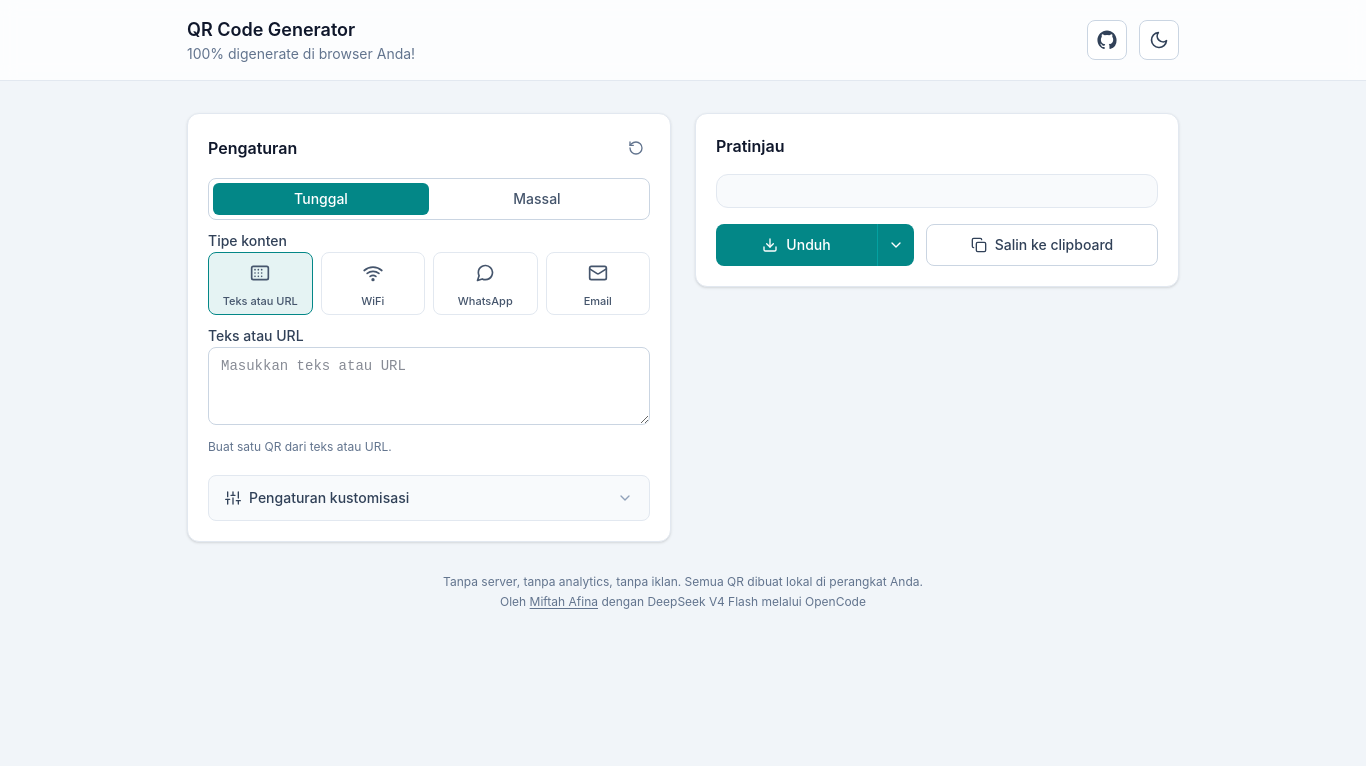
Test case: App › menampilkan form dinamis sesuai tipe konten
Click the button "WhatsApp": point(485, 283) [433,252,538,314]
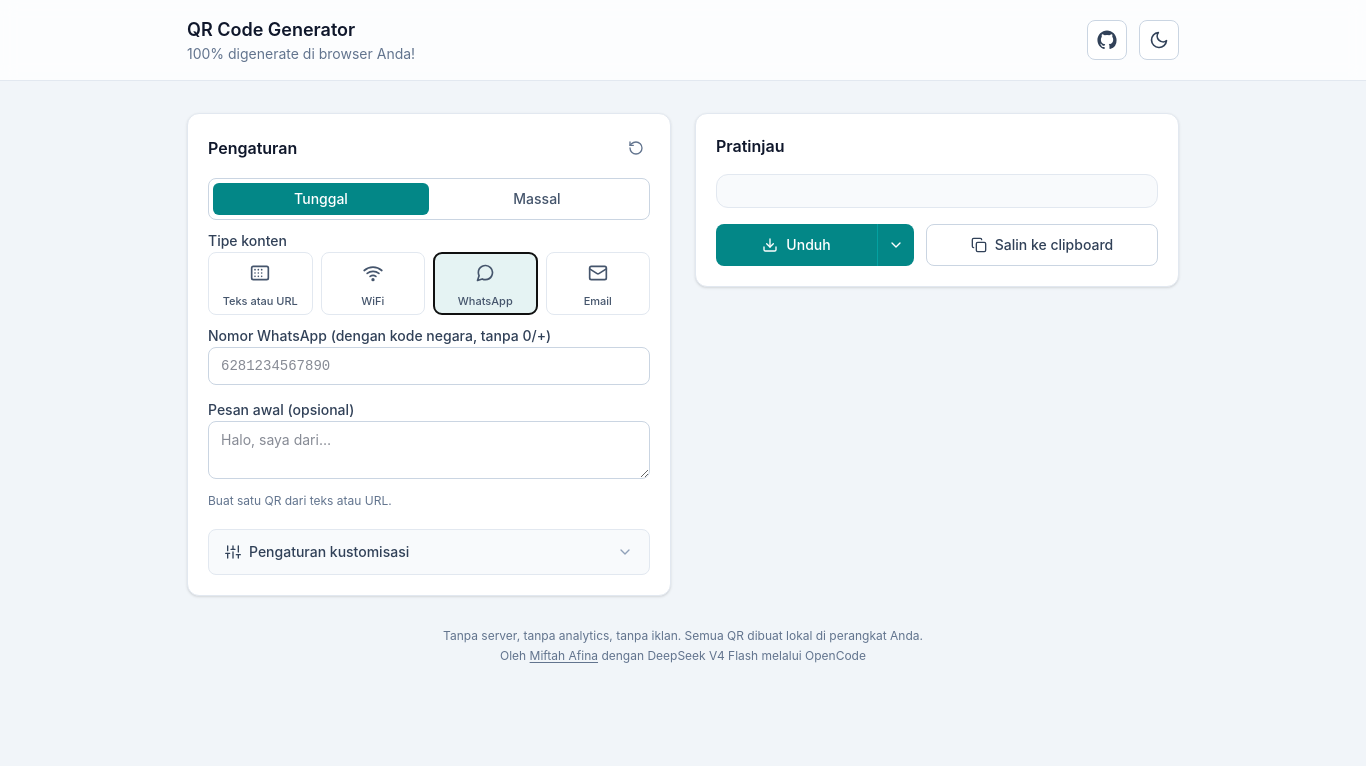
Result: the field labelled "Nomor WhatsApp (dengan kode negara, tanpa 0/+)" is shown at [208,346,650,384]
Result: the text box labelled "Pesan awal (opsional)" is shown at [208,420,650,478]
Click the button "WiFi": point(373, 283) [320,252,425,314]
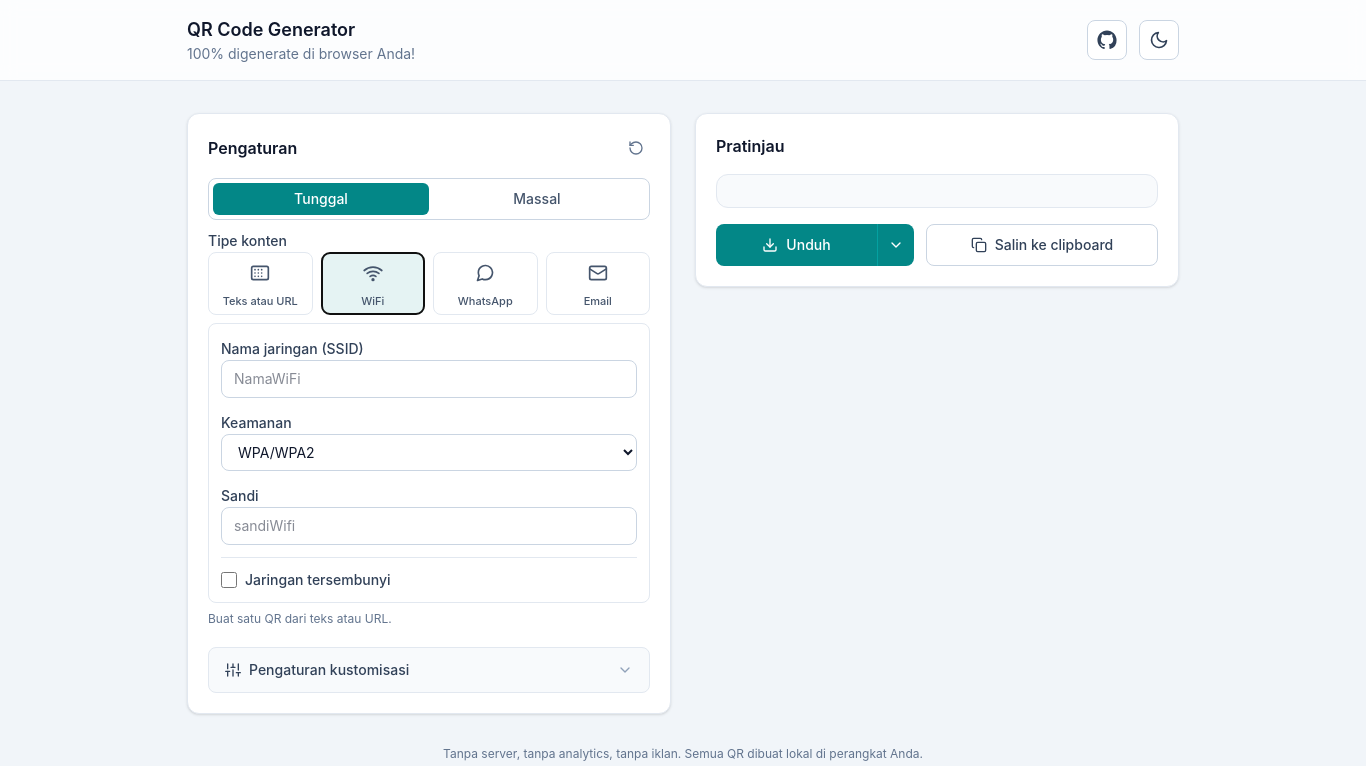
Result: the field labelled "Nama jaringan (SSID)" is shown at [221,360,637,398]
Result: the dropdown labelled "Keamanan" is shown at [221,434,637,470]
